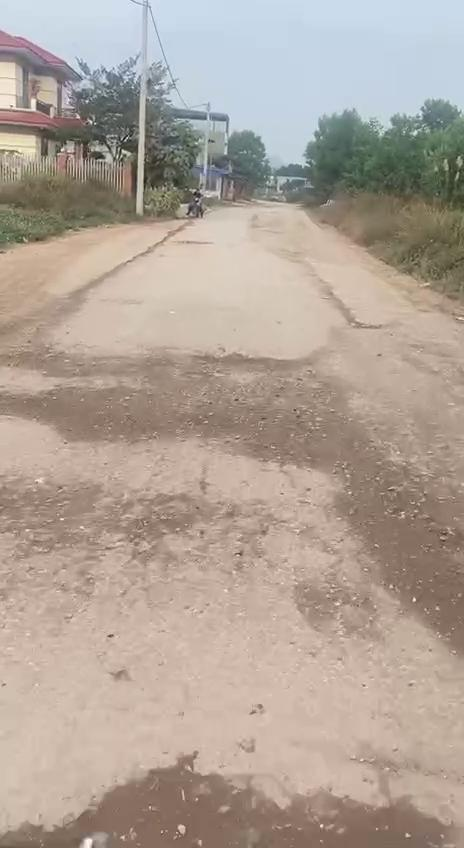pothole: (192, 346, 355, 462), (10, 368, 164, 437)
